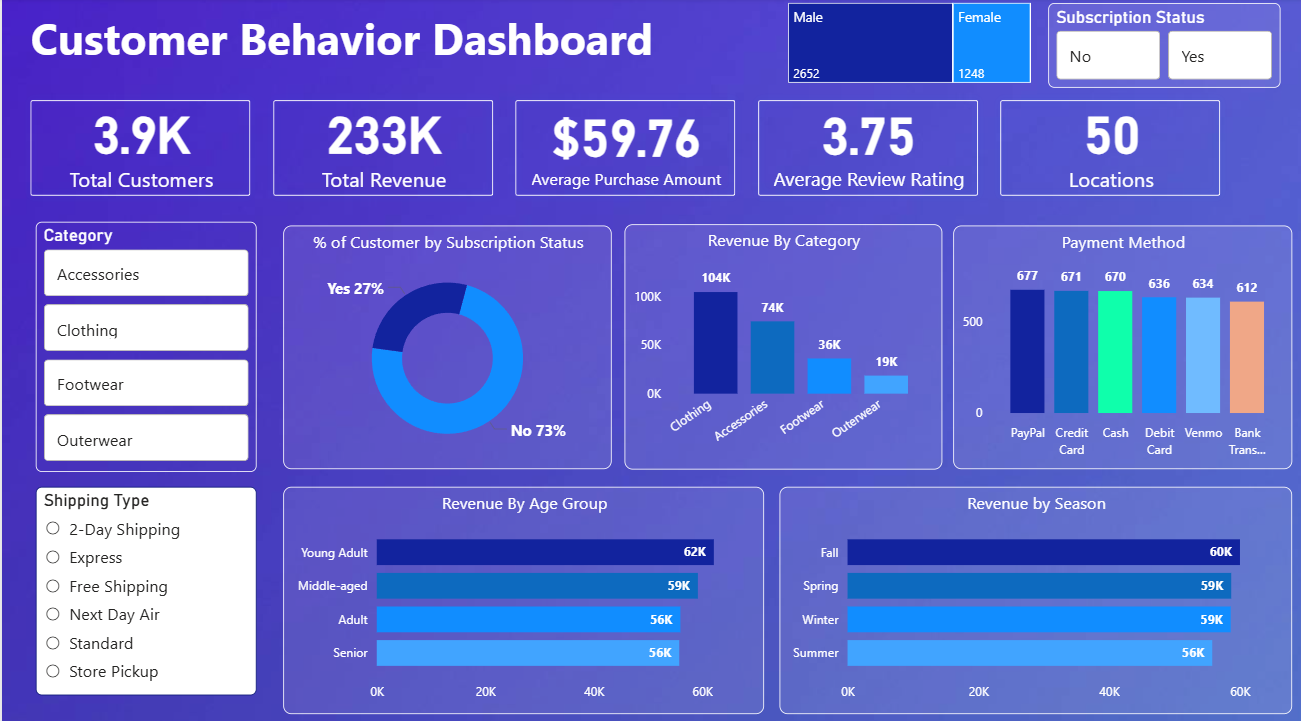

What the dashboard file says about the page in this screenshot:
{"tool":"powerbi","page":{"name":"Page 1","canvas":[1280,720],"ordinal":0},"visuals":[{"type":"cardVisual","fields":{"Data":["customer_behavior customer.Number of customers","Sum(customer_behavior customer.purchase_amount)","customer_behavior customer.Average purchase amount","Avg(customer_behavior customer.review_rating)","Count(customer_behavior customer.location)"]},"box":[0,72.4,1227,150.9],"z":0},{"type":"textbox","box":[23.3,4.9,640.5,72.4],"z":1000},{"type":"donutChart","title":"% of Customer by Subscription Status","fields":{"Category":["customer_behavior customer.subscription_status"],"Y":["CountNonNull(customer_behavior customer.customer_id)"]},"box":[276.1,223.3,322.7,239.3],"z":2000},{"type":"clusteredColumnChart","title":"Revenue By Category","fields":{"Category":["customer_behavior customer.category"],"Y":["Sum(customer_behavior customer.purchase_amount)"]},"box":[611,222.1,311.7,240.5],"z":3000},{"type":"clusteredColumnChart","title":"Payment Method","fields":{"Y":["CountNonNull(customer_behavior customer.customer_id)"],"Category":["customer_behavior customer.payment_method"]},"box":[933.7,223.3,332.5,239.3],"z":4000},{"type":"advancedSlicerVisual","title":"Subscription Status","fields":{"Values":["customer_behavior customer.subscription_status"]},"box":[1027,4.9,228.2,83.4],"z":5000},{"type":"advancedSlicerVisual","title":"Category","fields":{"Values":["customer_behavior customer.category"]},"box":[33.1,219.6,217.2,245.4],"z":6000},{"type":"listSlicer","title":"Shipping Type","fields":{"Values":["customer_behavior customer.shipping_type"]},"box":[33.1,479.8,217.2,204.9],"z":7000},{"type":"clusteredBarChart","title":"Revenue By Age Group","fields":{"Category":["customer_behavior customer.age_group"],"Y":["Sum(customer_behavior customer.purchase_amount)"]},"box":[276.1,479.8,472.4,223.3],"z":8000},{"type":"clusteredBarChart","title":"Revenue by Season","fields":{"Category":["customer_behavior customer.season"],"Y":["Sum(customer_behavior customer.purchase_amount)"]},"box":[763.2,479.8,503.1,223.3],"z":9000},{"type":"treemap","fields":{"Group":["customer_behavior customer.gender"],"Values":["Count(customer_behavior customer.customer_id)"]},"box":[766.9,0,247.9,88.3],"z":10000}]}

Visuals, with their boxes in screenshot pixels (x1, y1, x2, y2), scaled from the page's 1280x720 canvas onto the 1301x721 screenshot:
cardVisual - customer_behavior customer.Number of customers x Sum(customer_behavior customer.purchase_amount): BBox(0, 73, 1247, 224)
textbox: BBox(24, 5, 675, 77)
"% of Customer by Subscription Status" donutChart: BBox(281, 224, 609, 463)
"Revenue By Category" clusteredColumnChart: BBox(621, 222, 938, 463)
"Payment Method" clusteredColumnChart: BBox(949, 224, 1287, 463)
"Subscription Status" advancedSlicerVisual: BBox(1044, 5, 1276, 88)
"Category" advancedSlicerVisual: BBox(34, 220, 254, 466)
"Shipping Type" listSlicer: BBox(34, 480, 254, 686)
"Revenue By Age Group" clusteredBarChart: BBox(281, 480, 761, 704)
"Revenue by Season" clusteredBarChart: BBox(776, 480, 1287, 704)
treemap - customer_behavior customer.gender x Count(customer_behavior customer.customer_id): BBox(779, 0, 1031, 88)
